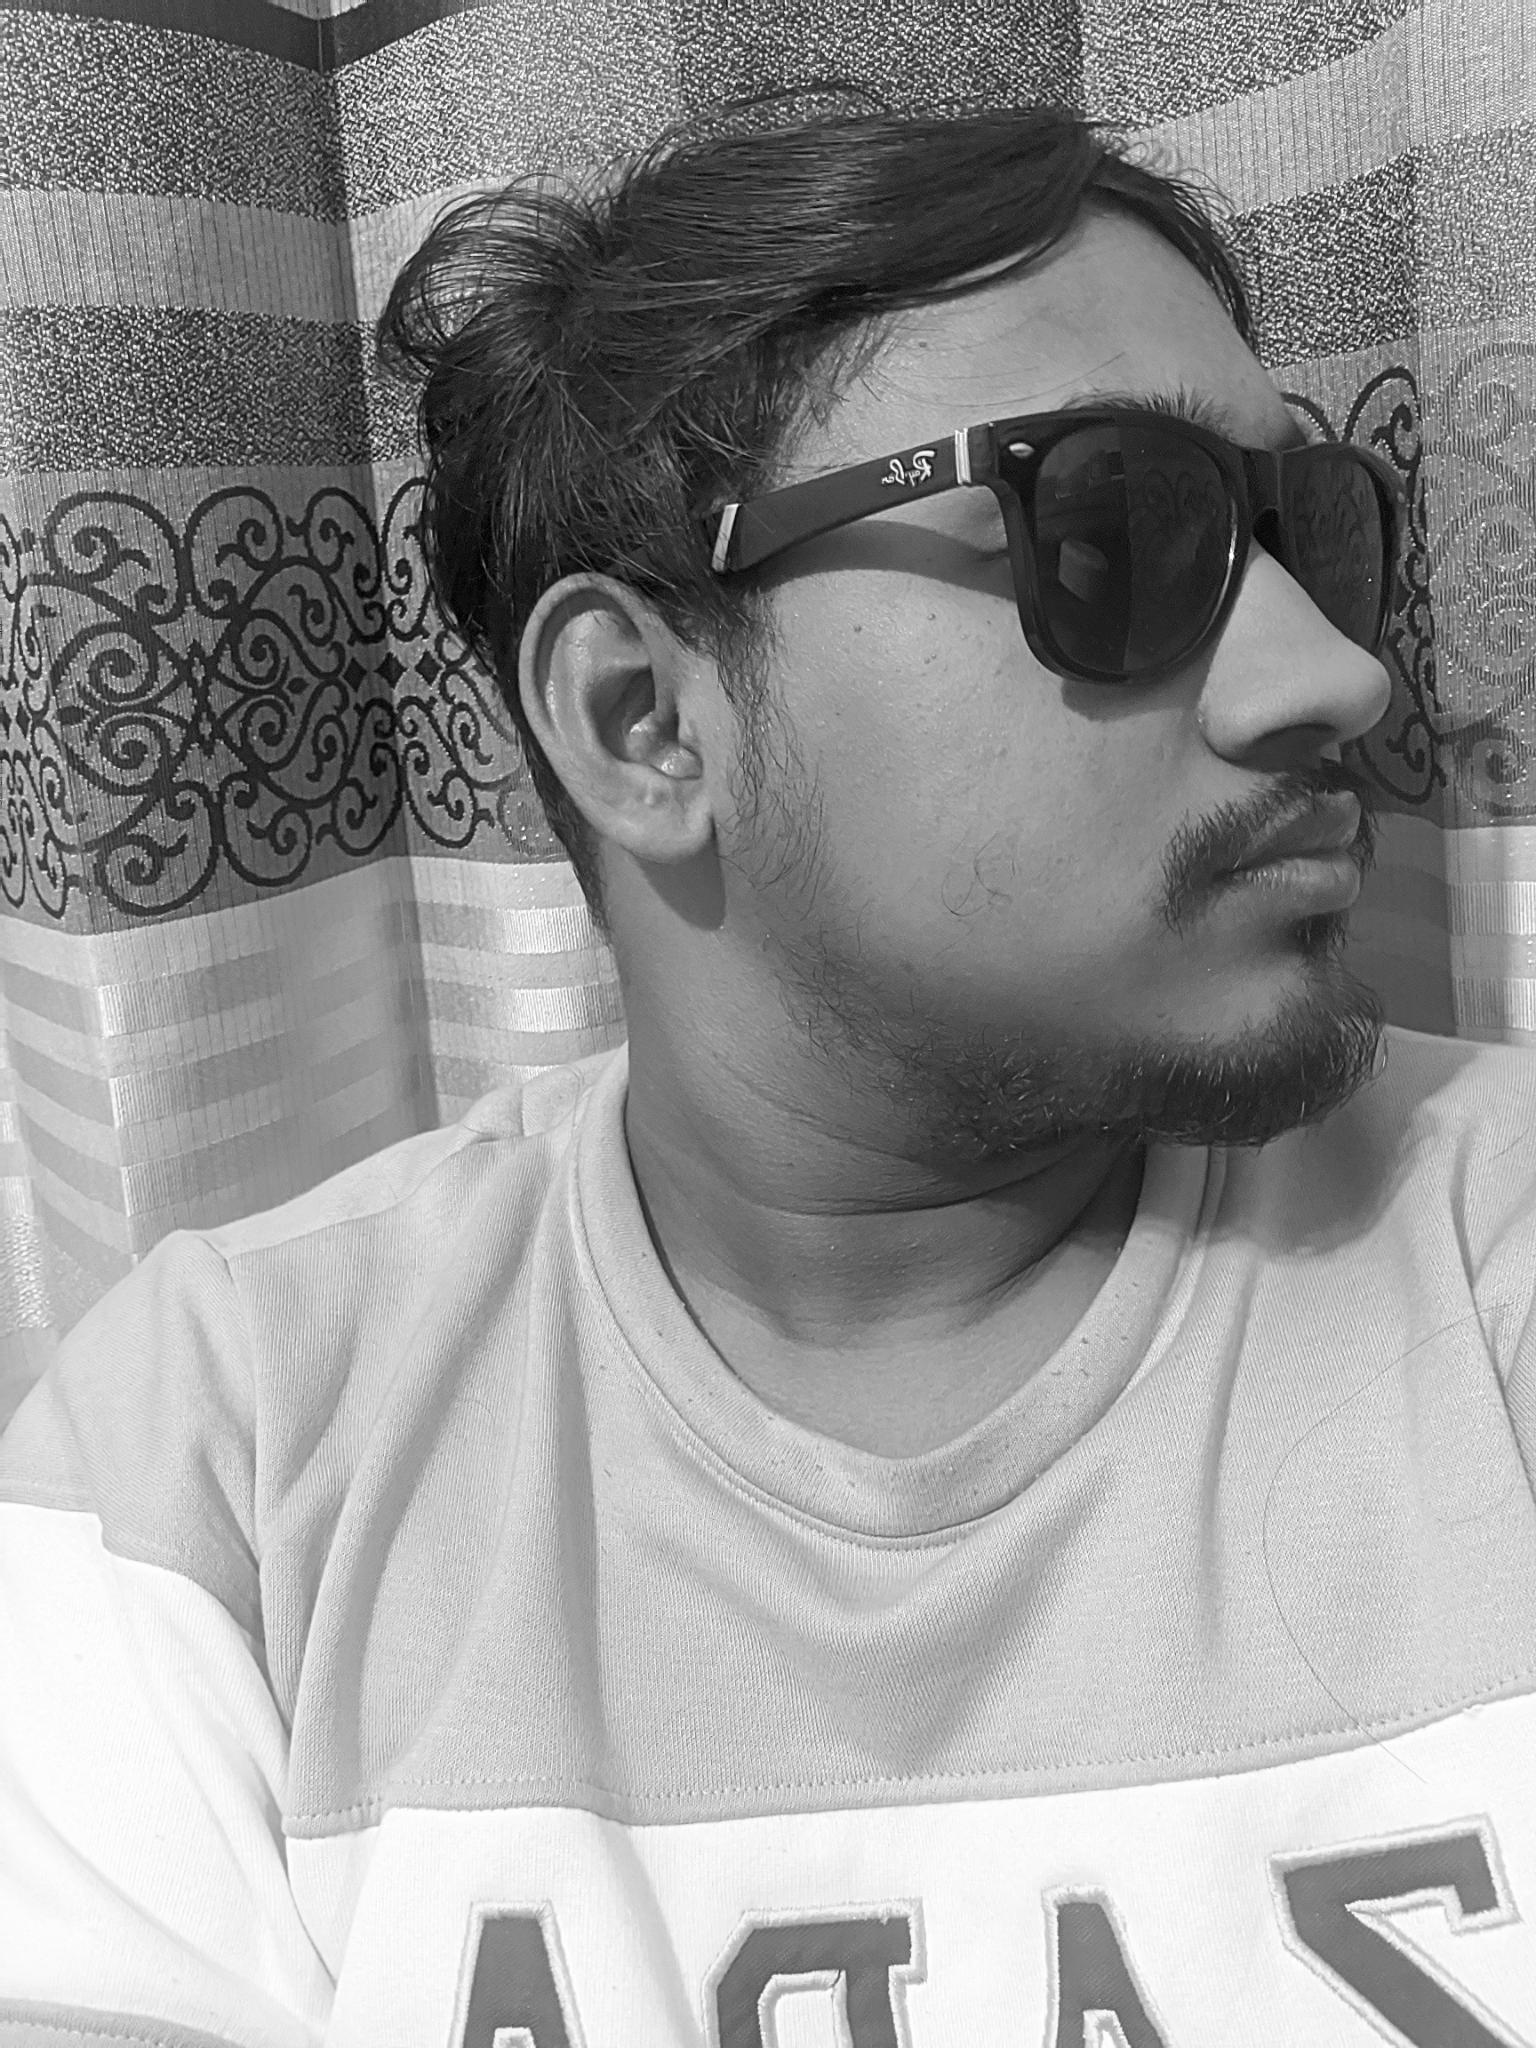Neutral: (921, 343, 1492, 1137)
